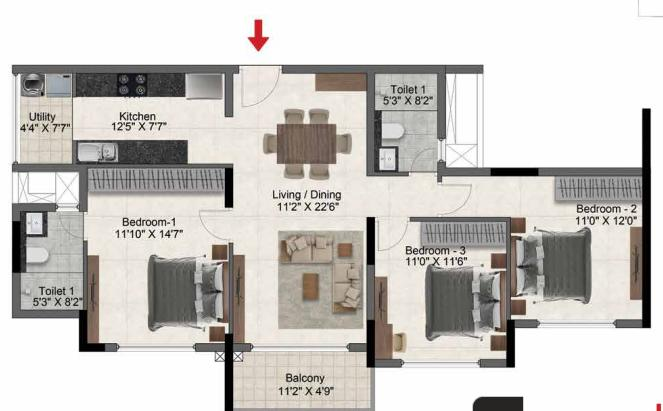Balcony: (228, 349, 372, 411)
Bed: (145, 252, 230, 334), (508, 230, 590, 306), (424, 267, 506, 338)
Bedroom: (83, 167, 231, 349), (508, 174, 645, 325), (370, 221, 505, 363)
Dining Room: (227, 70, 369, 221)
Dining table: (259, 106, 353, 184)
Kitchen: (71, 75, 228, 163)
Living Room: (229, 223, 370, 346)
Sofa: (329, 262, 363, 314), (283, 235, 334, 268)
Wardrobe: (85, 168, 227, 194), (553, 171, 643, 202), (422, 221, 504, 244), (315, 71, 366, 91)
commode: (380, 123, 405, 140), (26, 249, 47, 264)
door: (241, 68, 280, 106), (196, 208, 228, 241), (58, 205, 87, 241), (374, 224, 406, 254), (441, 186, 470, 217)
fridge: (186, 74, 224, 101)
kitchen-slab: (73, 141, 188, 165), (76, 73, 185, 98)
sink: (75, 143, 119, 161), (25, 212, 45, 235), (379, 150, 396, 171)
stove: (115, 74, 148, 97)
toilet: (18, 207, 86, 311), (371, 72, 443, 170)
tv: (370, 275, 396, 358), (231, 257, 246, 344), (86, 256, 99, 349), (628, 226, 644, 298)
utility: (18, 73, 75, 165)
washing-machine: (21, 74, 46, 95)
